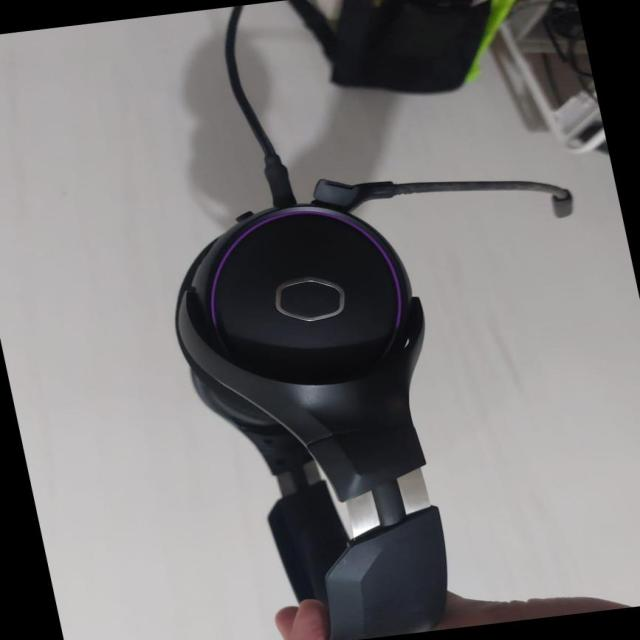earphone: (112, 103, 540, 640)
